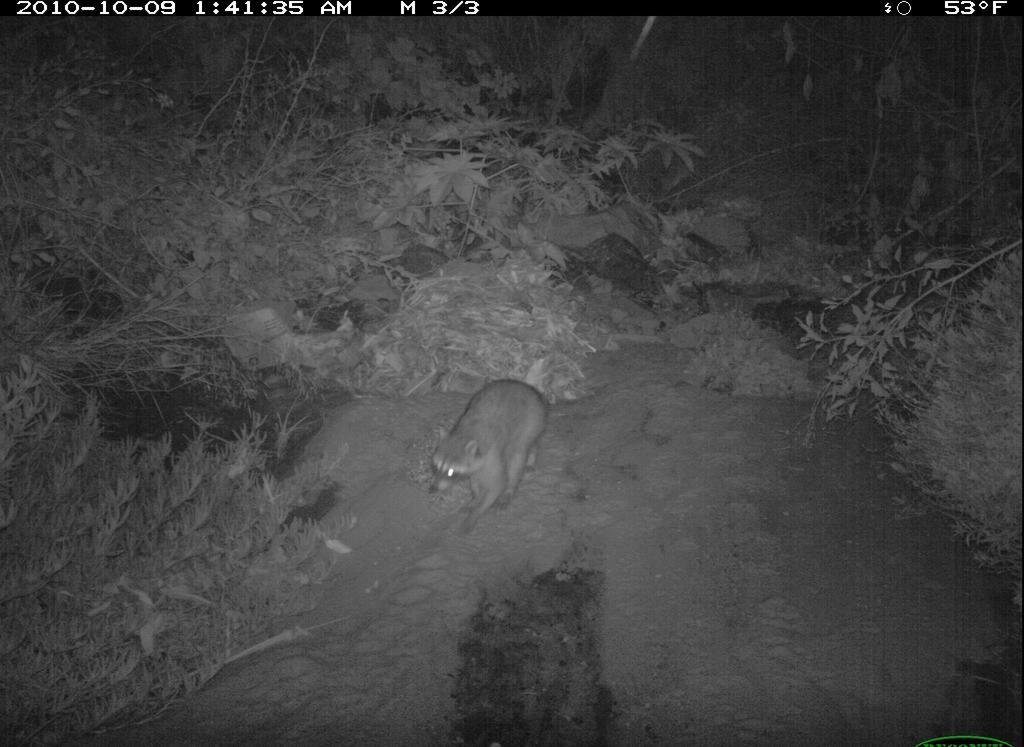raccoon: (425, 373, 560, 539)
